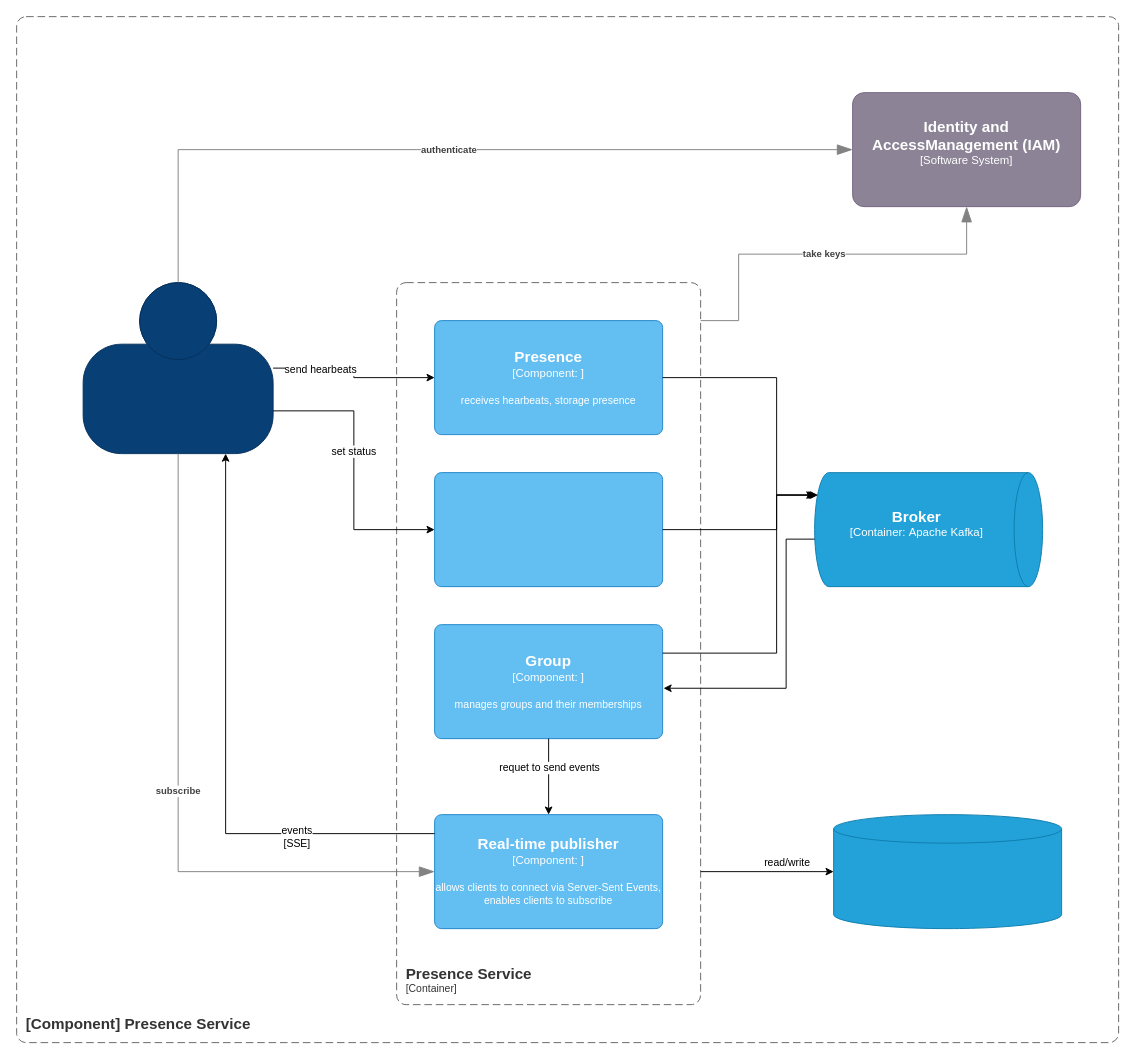
This 1135x1059 diagram has some shape labels left out. The shapes that lost their labels are listed below. From the top down, each one's centre as x and y in pixels, then its label:
At [177,368]: "User [Person]".
At [548,529]: "Status [Component: ] allows users to set statutes".
At [947,871]: "NoSQL database [Container: MongoDB]".
